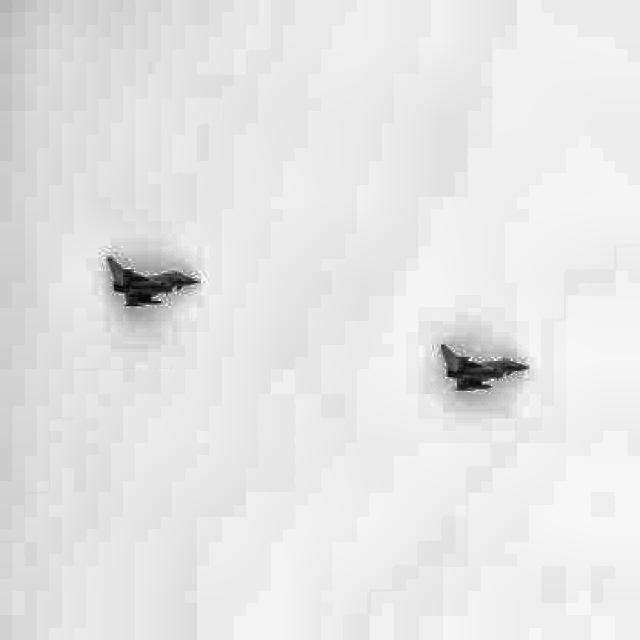EF2000: (106, 257, 200, 308), (439, 344, 530, 391)
